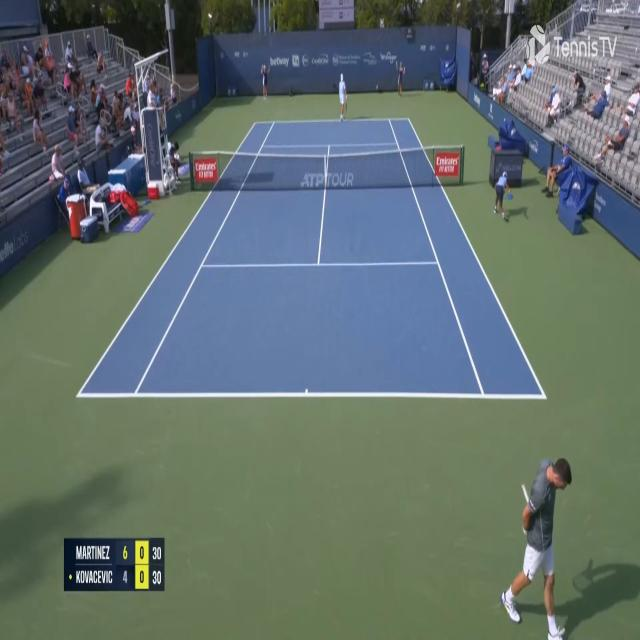tennis-player: (496, 446, 579, 634), (336, 70, 349, 124)
